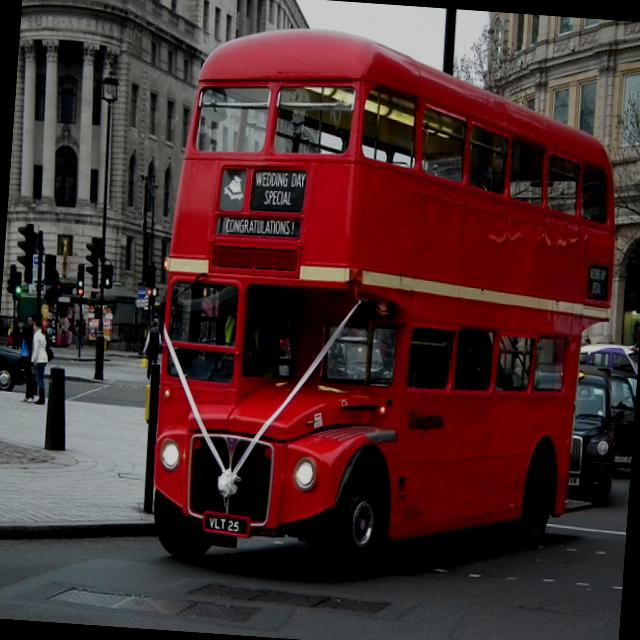Vehicle: (147, 23, 633, 594), (566, 368, 629, 506), (571, 362, 638, 476), (574, 339, 639, 387), (0, 345, 26, 392), (615, 368, 637, 422)
